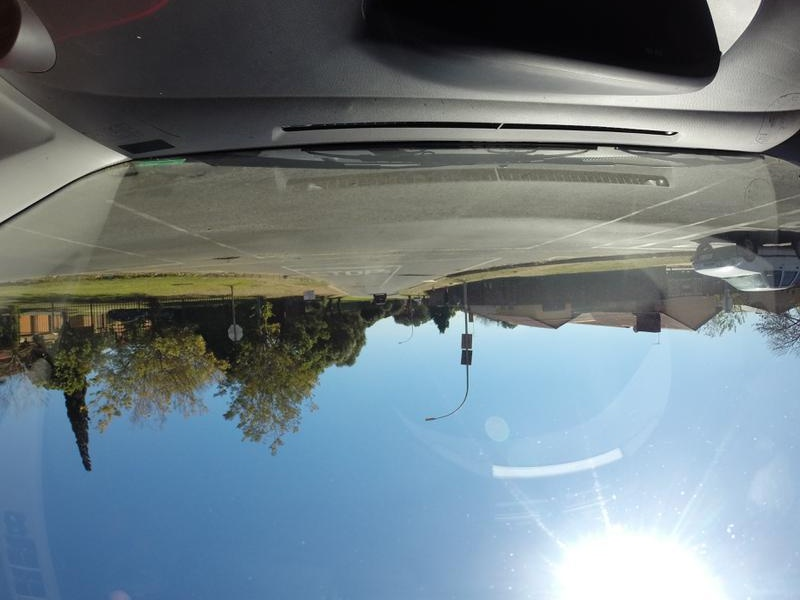pothole: (155, 164, 212, 186), (108, 166, 135, 177), (208, 255, 241, 260)
